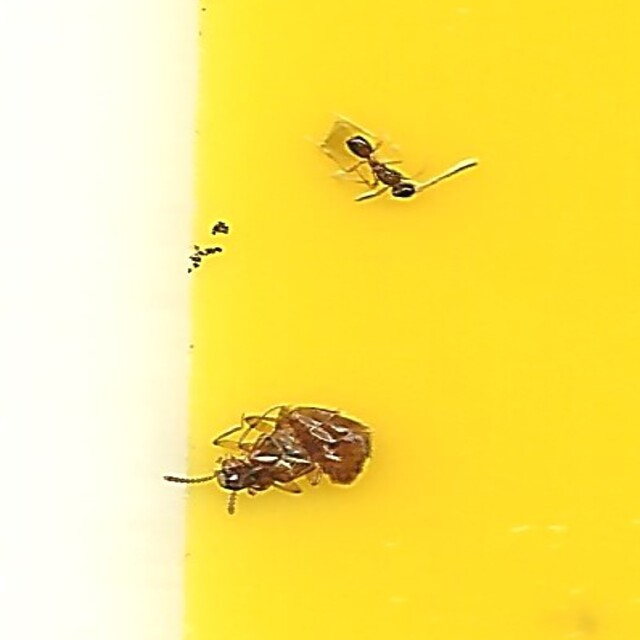Coleoptera: (161, 406, 375, 517)
Hymenoptera: (328, 123, 479, 203)
